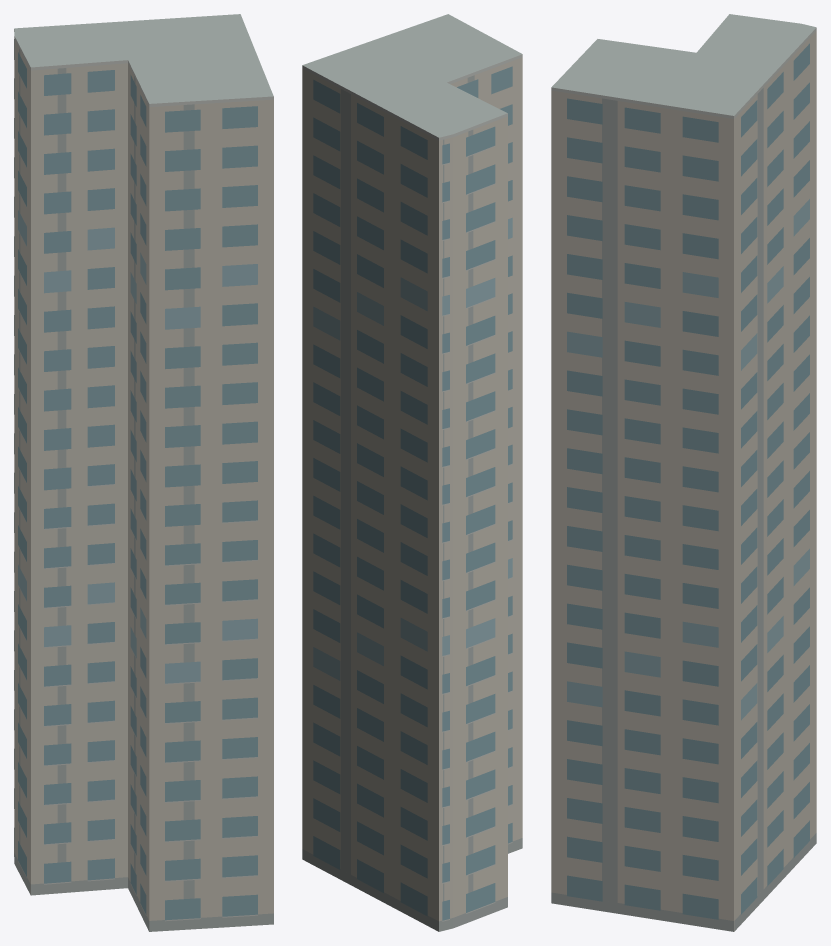
File: survey-upis-32875130.glb
3 views of the same model, side by side, from view 1: azimuth 30°, elevation 25°; view 2: azimuth 150°, elevation 25°; view 3: azimuth 270°, elevation 25° (orthographic). The views are drawn at different scales.
Parts seen in each view (by area): view 1: survey-upis-32875130.tmp; view 2: survey-upis-32875130.tmp; view 3: survey-upis-32875130.tmp.
Part boxes in pixels (x1=…): survey-upis-32875130.tmp: x1=14, y1=14, x2=273, y2=931; survey-upis-32875130.tmp: x1=302, y1=14, x2=522, y2=931; survey-upis-32875130.tmp: x1=551, y1=14, x2=816, y2=931.
Size of the model in its own units: 17.18 by 64.05 by 18.89.
